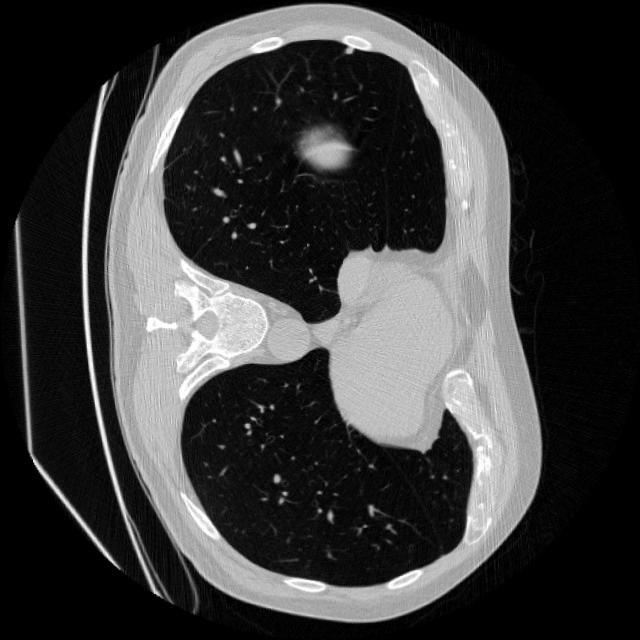nodule: (340, 39, 360, 60)
